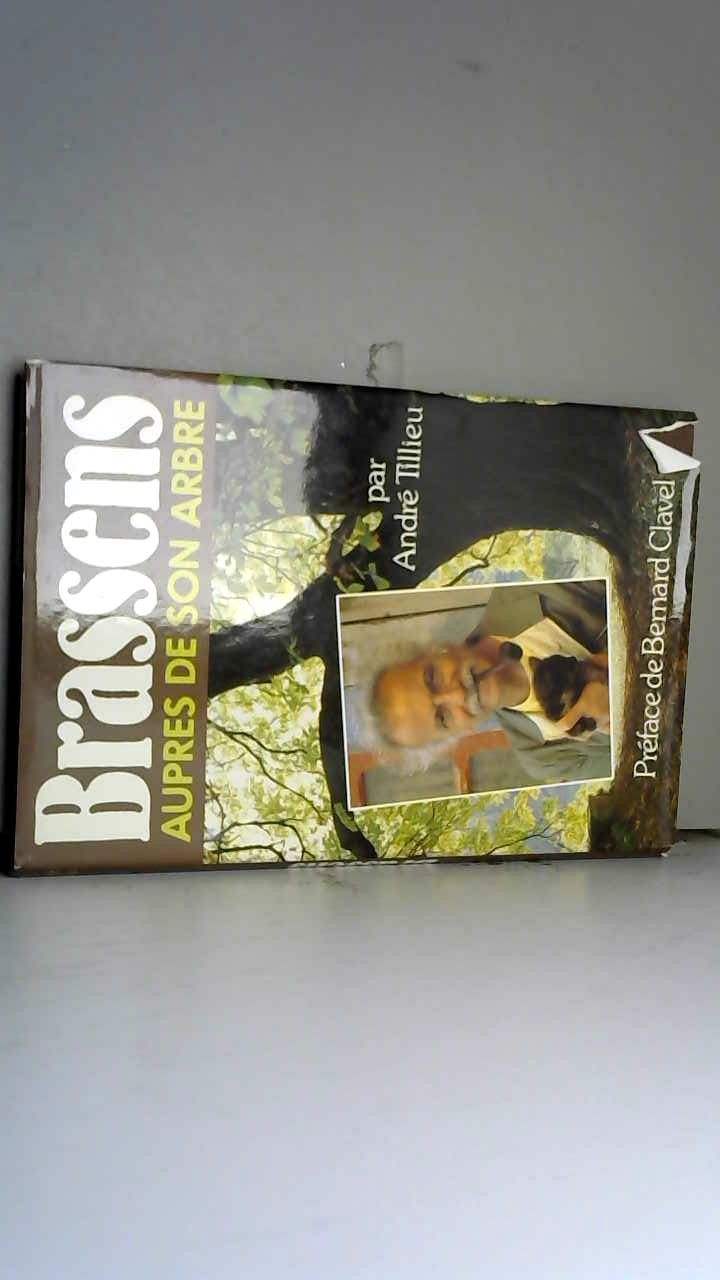book: (0, 342, 718, 901)
